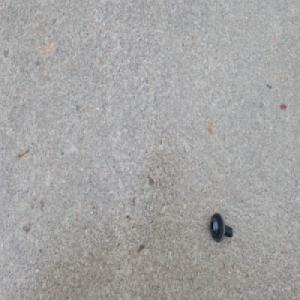BoltWasher: (209, 210, 234, 242)
